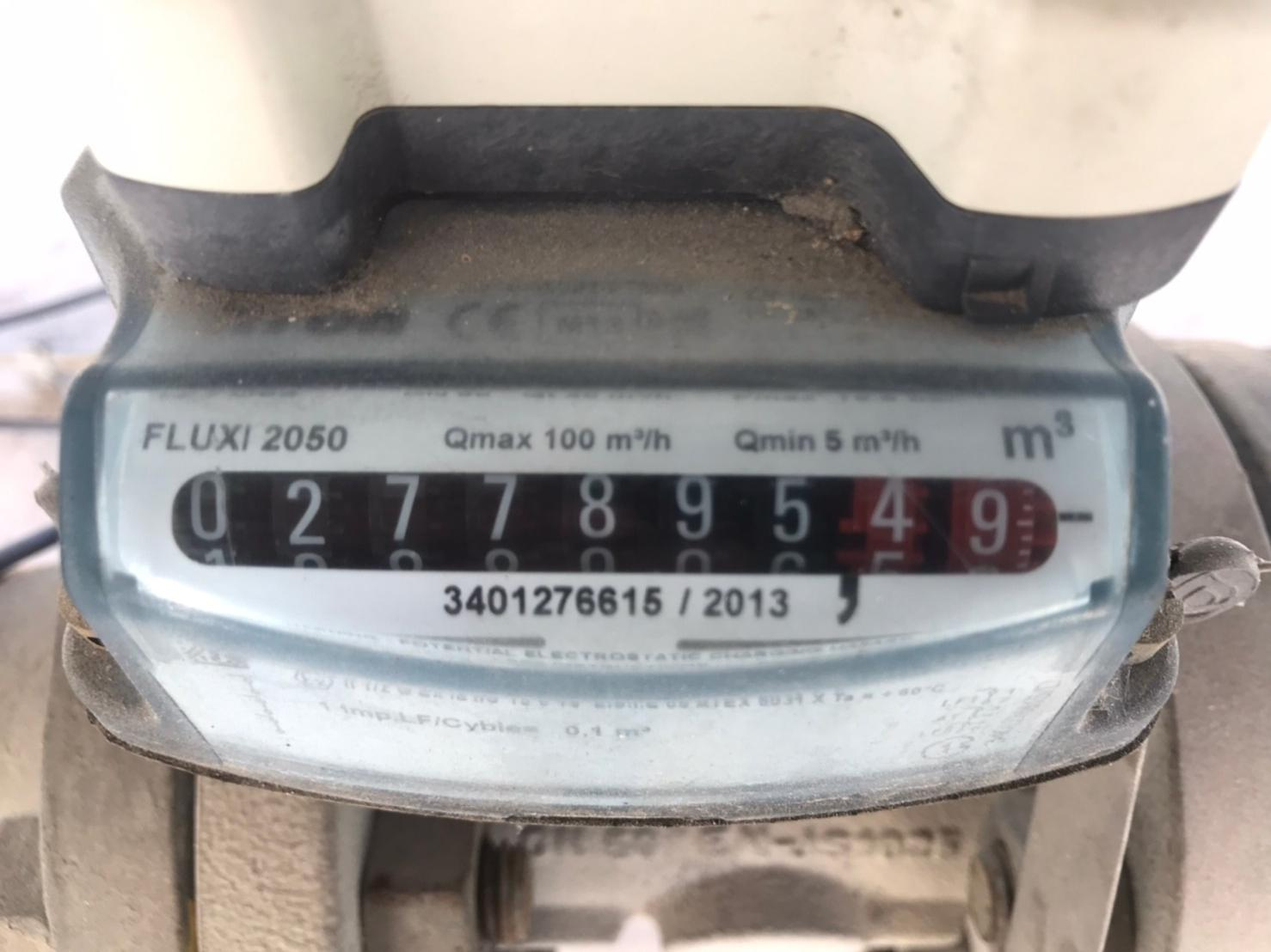analog_dial: (159, 446, 1095, 601)
